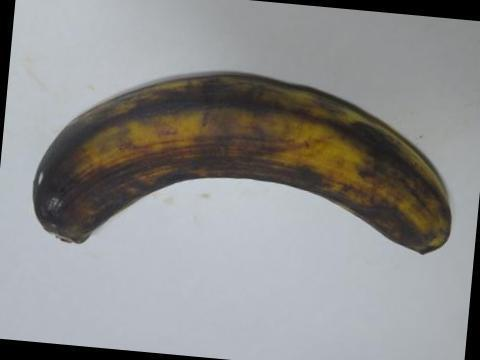overripe: (19, 56, 466, 300)
